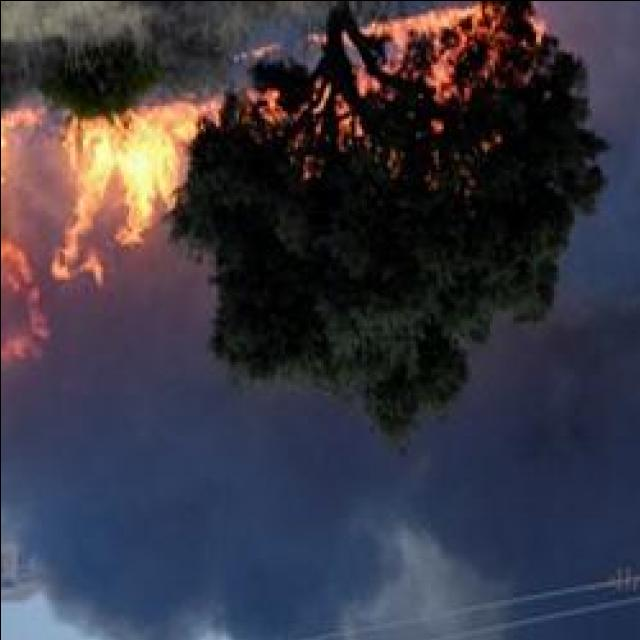fire: (0, 98, 204, 272)
smoke: (448, 351, 632, 563), (44, 516, 215, 634), (338, 540, 496, 638), (0, 408, 79, 597)
